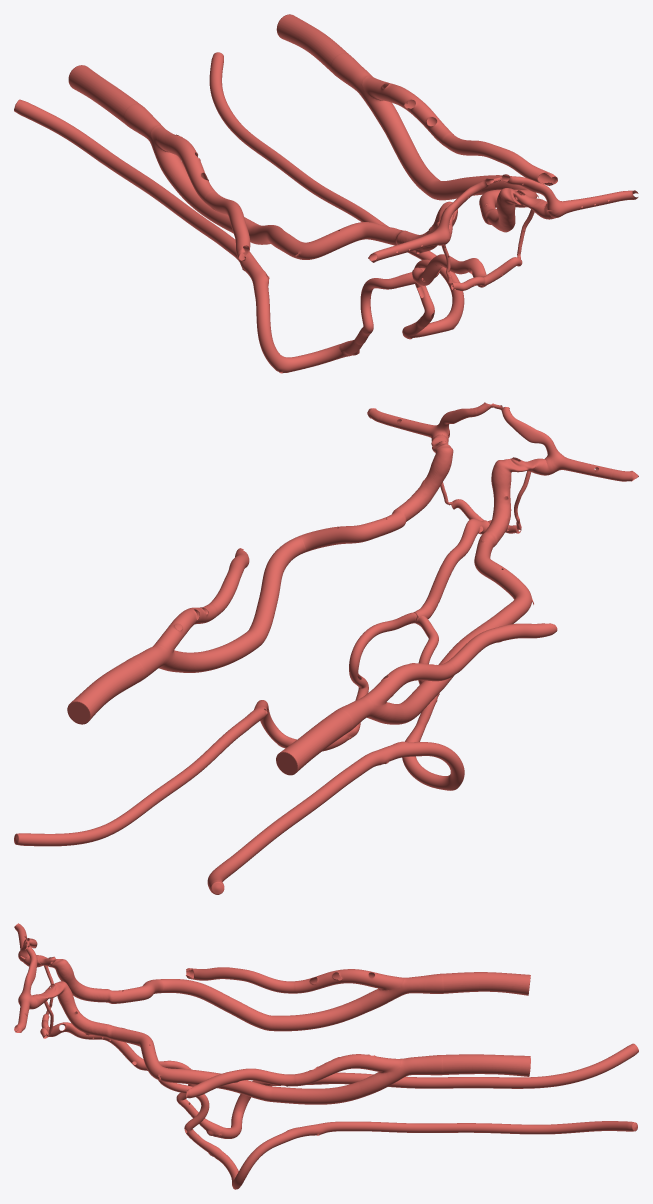
The picture shows the model from 3 angles, top to bottom: view 1: azimuth 30°, elevation 25°; view 2: azimuth 150°, elevation 25°; view 3: azimuth 270°, elevation 25°; orthographic projection. The views are drawn at different scales.
Visible parts, largest first — view 1: External carotid, ICA cervical right, Vertebral V2 left, ICA cervical left, External carotid left, Common carotid right, Common carotid left, Vertebral V2 right, Vertebral V3 left, ICA petrous left, Vertebral V1 left, Vertebral V4 left (+11 smaller); view 2: ICA cervical right, External carotid left, Vertebral V2 left, ICA cervical left, Common carotid right, Common carotid left, Vertebral V2 right, External carotid, ICA petrous right, Vertebral V3 left, Basilar, ICA cavernous right (+9 smaller); view 3: ICA cervical left, ICA cervical right, External carotid left, Vertebral V2 right, External carotid, Common carotid right, Common carotid left, Vertebral V2 left, Vertebral V1 left, ICA cavernous right, ICA petrous right, ICA cavernous left (+9 smaller).
Boxes of the visible parts, left/top/right/bottom form: External carotid: left=362, top=76, right=557, bottom=185; ICA cervical right: left=355, top=74, right=538, bottom=200; Vertebral V2 left: left=100, top=151, right=269, bottom=297; ICA cervical left: left=147, top=126, right=303, bottom=259; External carotid left: left=150, top=126, right=250, bottom=260; Common carotid right: left=276, top=14, right=370, bottom=90; Common carotid left: left=68, top=65, right=162, bottom=139; Vertebral V2 right: left=228, top=119, right=427, bottom=259; Vertebral V3 left: left=255, top=292, right=359, bottom=373; ICA petrous left: left=299, top=222, right=403, bottom=259; Vertebral V1 left: left=14, top=99, right=108, bottom=163; Vertebral V4 left: left=349, top=272, right=416, bottom=351; ICA cervical right: left=153, top=537, right=304, bottom=672; External carotid left: left=362, top=623, right=557, bottom=705; Vertebral V2 left: left=230, top=741, right=430, bottom=868; ICA cervical left: left=361, top=593, right=533, bottom=724; Common carotid right: left=67, top=646, right=165, bottom=724; Common carotid left: left=276, top=697, right=372, bottom=775; Vertebral V2 right: left=104, top=701, right=267, bottom=835; External carotid: left=154, top=548, right=249, bottom=653; ICA petrous right: left=297, top=510, right=405, bottom=552; Vertebral V3 left: left=402, top=734, right=464, bottom=790; Basilar: left=414, top=518, right=489, bottom=618; ICA cavernous right: left=392, top=445, right=453, bottom=521; ICA cervical left: left=161, top=978, right=407, bottom=1031; ICA cervical right: left=157, top=1058, right=408, bottom=1104; External carotid left: left=186, top=967, right=404, bottom=993; Vertebral V2 right: left=271, top=1121, right=551, bottom=1146; External carotid: left=186, top=1054, right=401, bottom=1098; Common carotid right: left=405, top=1054, right=530, bottom=1076; Common carotid left: left=405, top=972, right=530, bottom=995; Vertebral V2 left: left=270, top=1072, right=553, bottom=1088; Vertebral V1 left: left=552, top=1043, right=638, bottom=1086; ICA cavernous right: left=53, top=981, right=110, bottom=1038; ICA petrous right: left=110, top=1025, right=162, bottom=1079; ICA cavernous left: left=49, top=959, right=110, bottom=1003.
Size of the model in its own units: 95.37 by 77.37 by 202.
